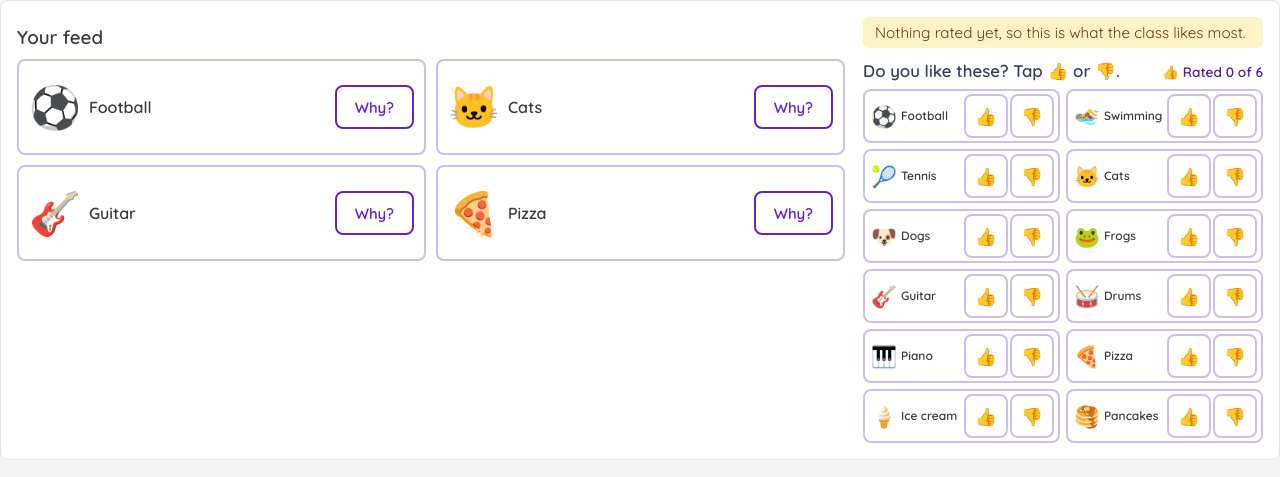
Scenario: Recommender UI › changes the feed when a rating changes, and drops rated items from it
The width and height of the screenshot is (1280, 477).
Click the button named "Like Football" at (986, 116), box [964,94,1008,138]
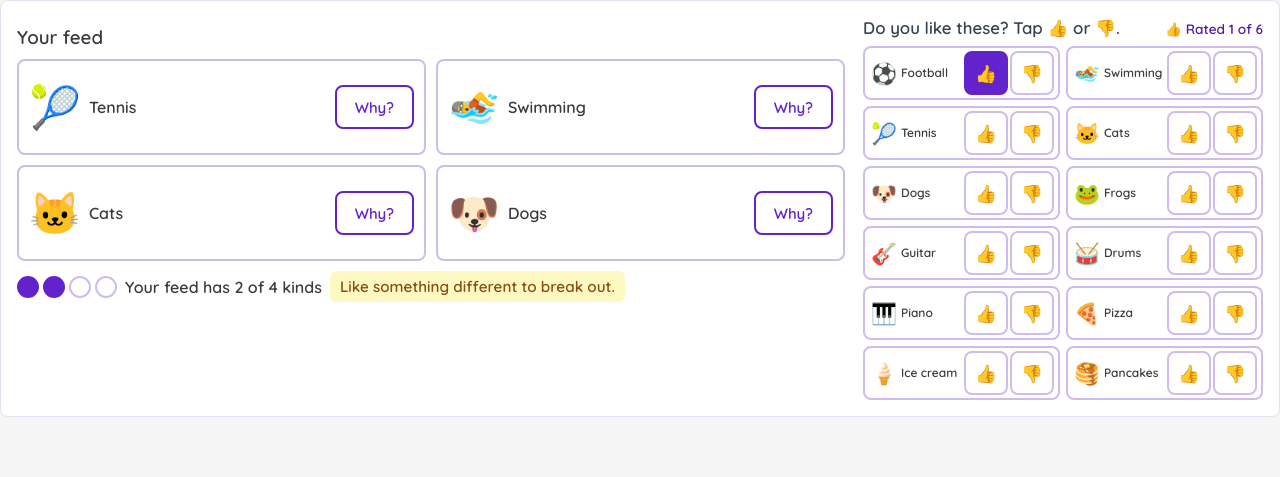
Expected: the list with test id "recommender-feed" does not show "Football", [17,59,845,261]
Expected: the list with test id "recommender-feed" shows "Tennis", [89,97,136,117]
